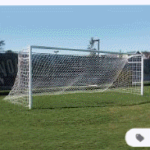goals: (5, 44, 145, 112)
